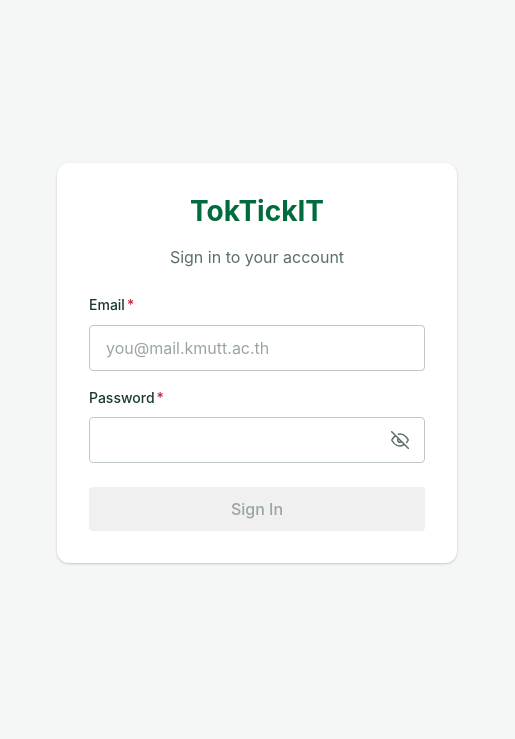
Scenario: LoginForm (UI-01 / UI-02) › routes a successful login to the Change Password screen when mustChangePassword is true
Step 1. Type "alice@test.com" into the field with test id "login-email" → (257, 348), box [89,325,425,371]
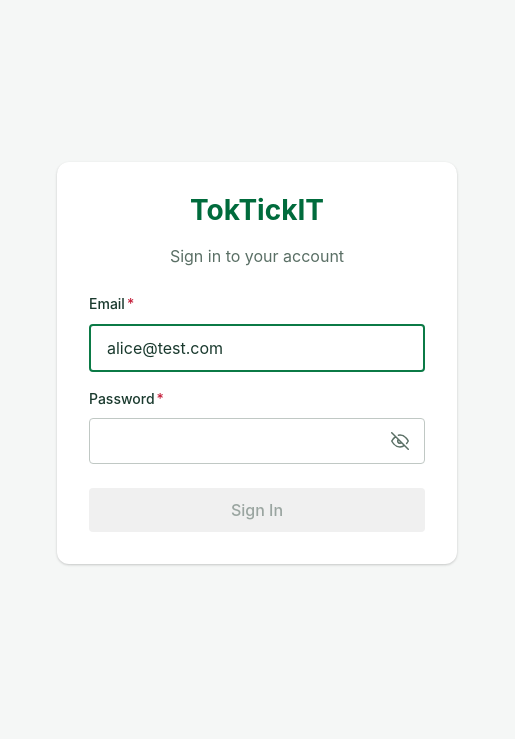
Step 2. Type "Secret123!" into the password field with test id "login-password" → (257, 441), box [89,418,425,464]
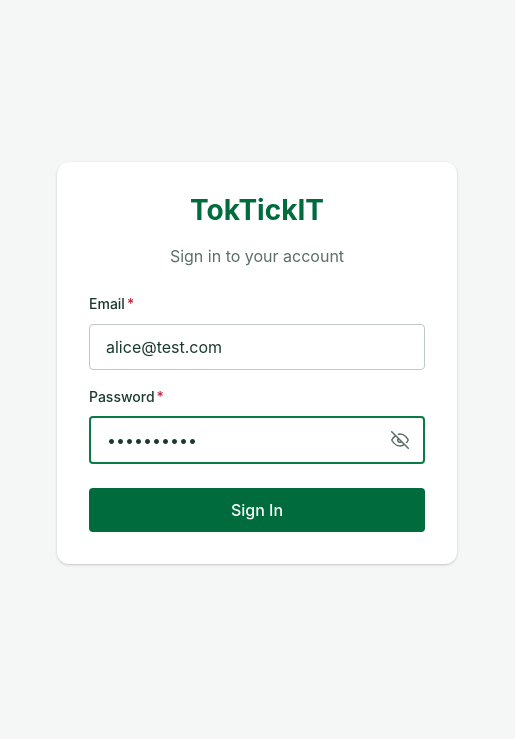
Step 3. Click the button with test id "login-submit-btn" → click(257, 510), box [89,488,425,532]
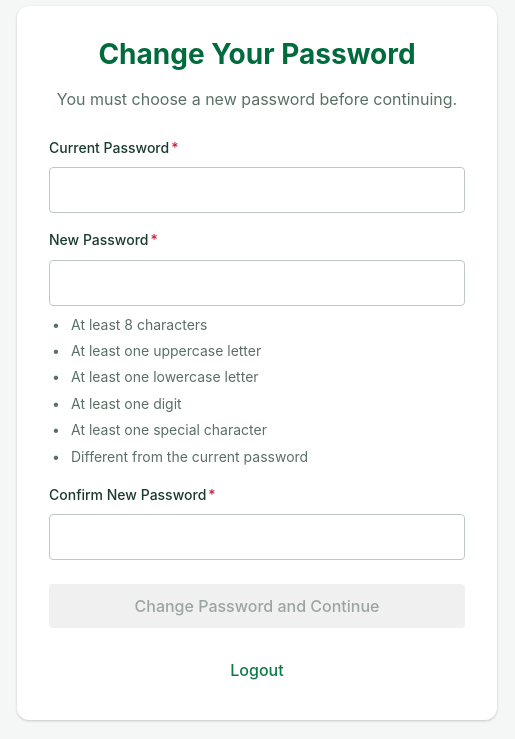
Expected: the password field with test id "current-password" is shown, [49,167,465,213]
